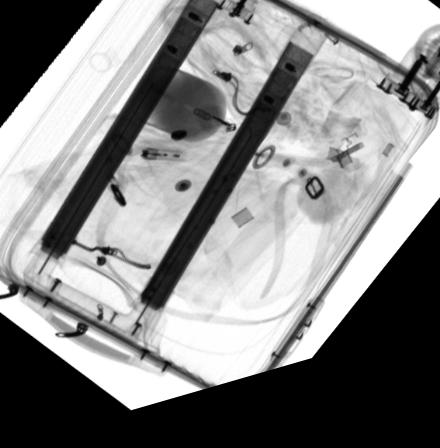Lighter: (138, 155, 182, 170)
